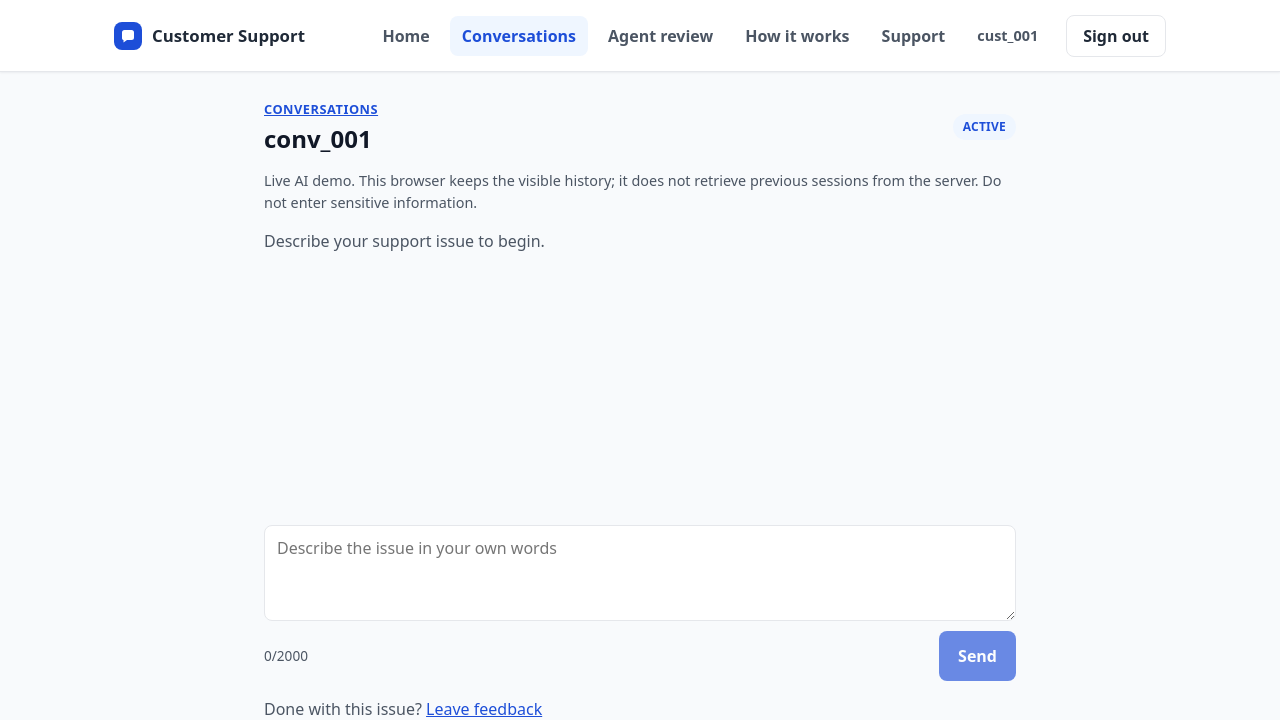
Scenario: customer support workflows › clears only the submitted customer's conversation draft while another conversation is open
In the text box labelled "Describe the issue": (640, 573) left=264, top=525, right=1016, bottom=621, type "Only clear the live draft"
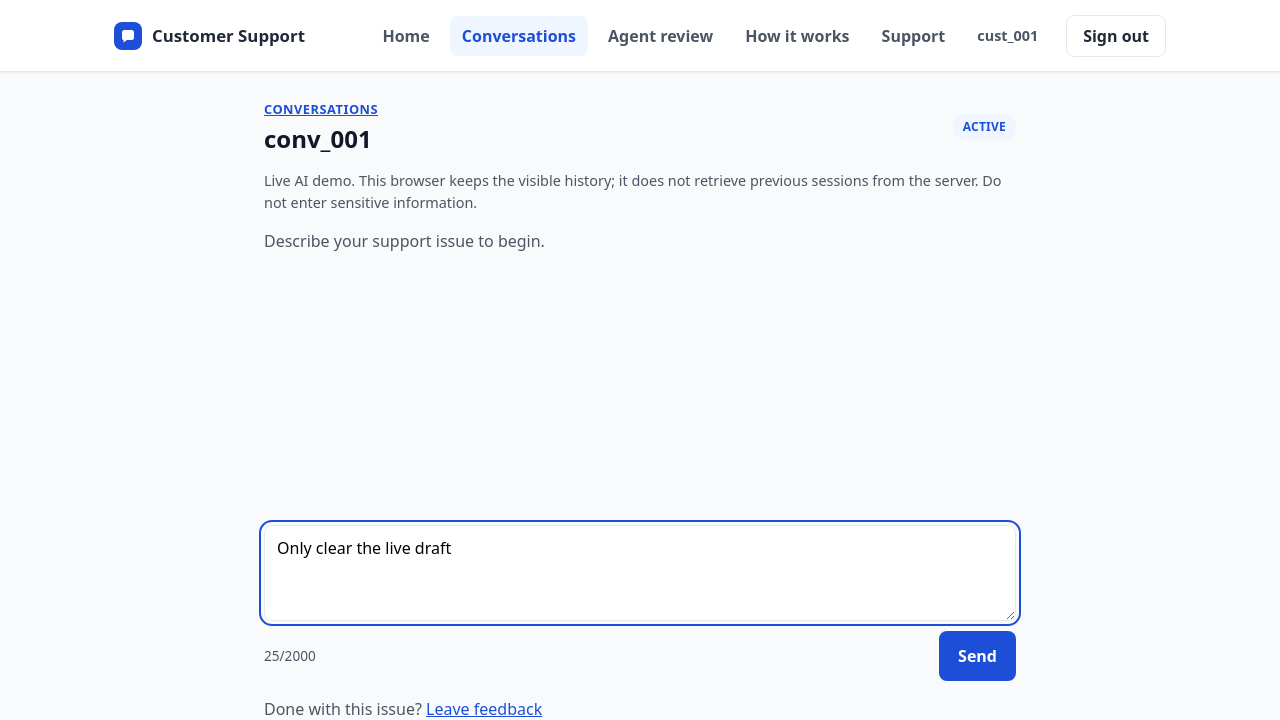
Click the button "Send": (978, 656) left=939, top=631, right=1016, bottom=681
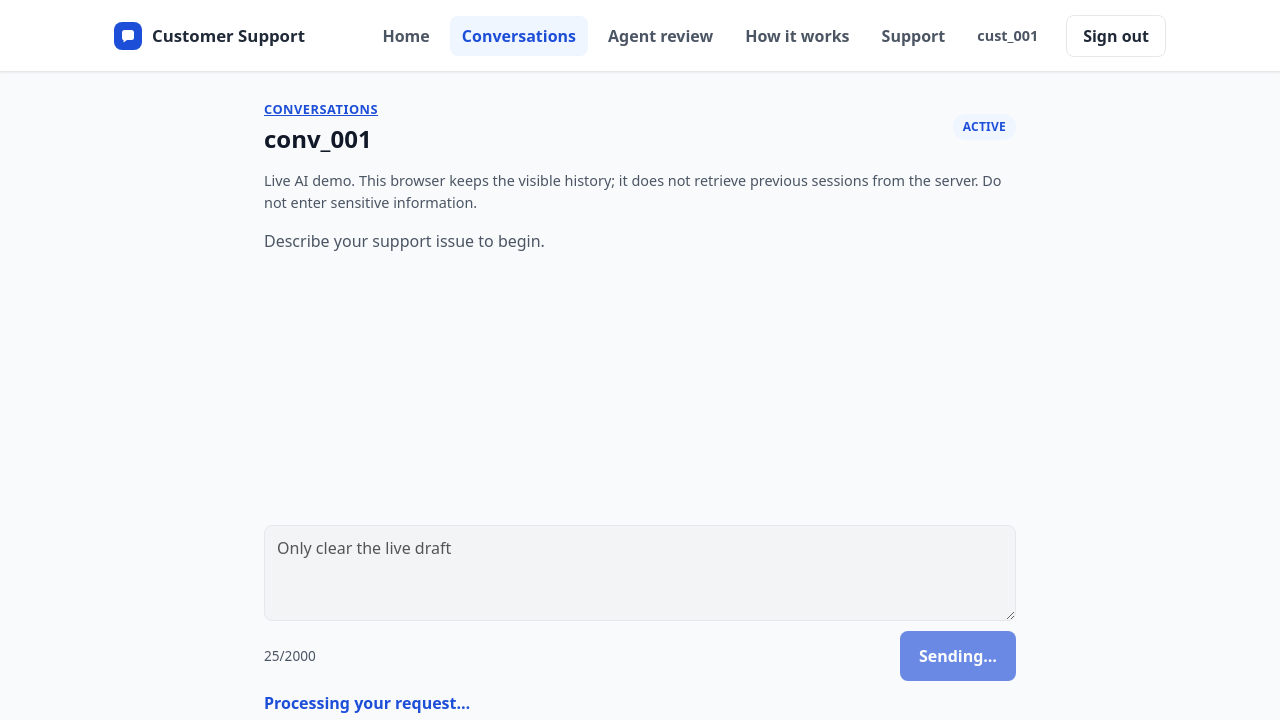
Click the link "Conversations" next to "Home": (519, 36) left=450, top=16, right=588, bottom=56
(page scrolled)
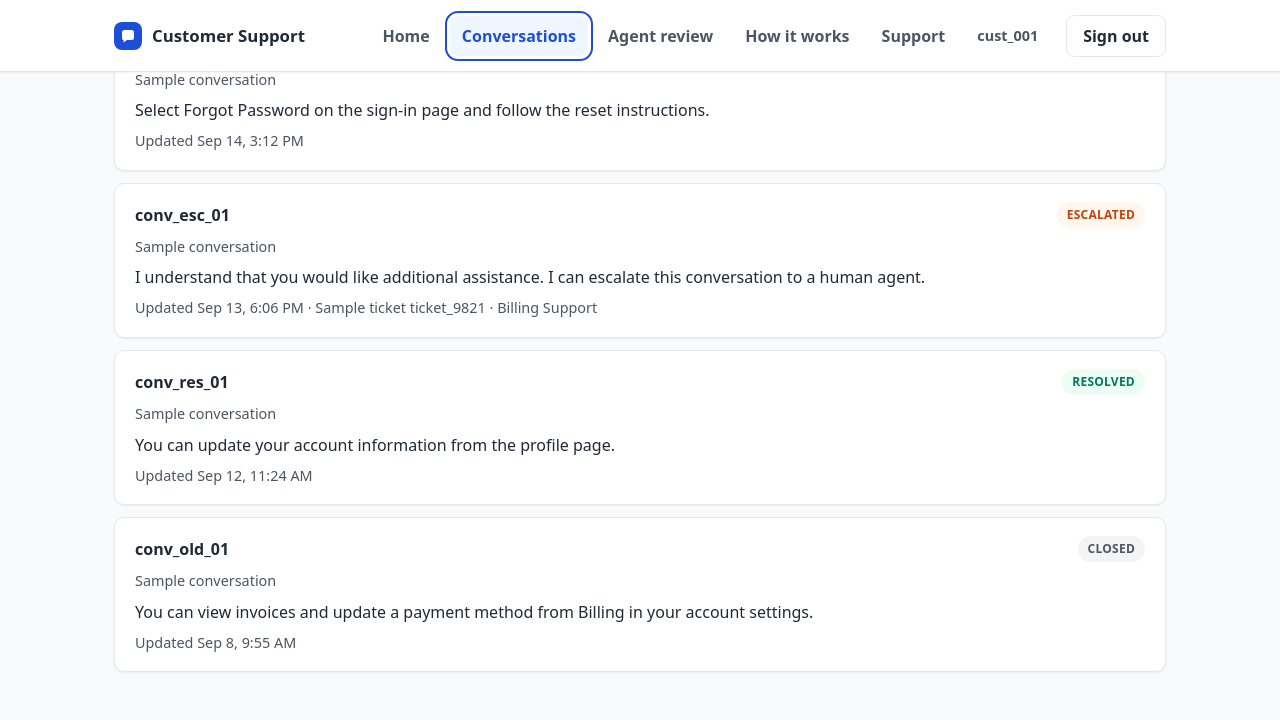
Click the link with aria-label "Open conv_old_01": (640, 595) left=114, top=517, right=1166, bottom=672
(page scrolled)
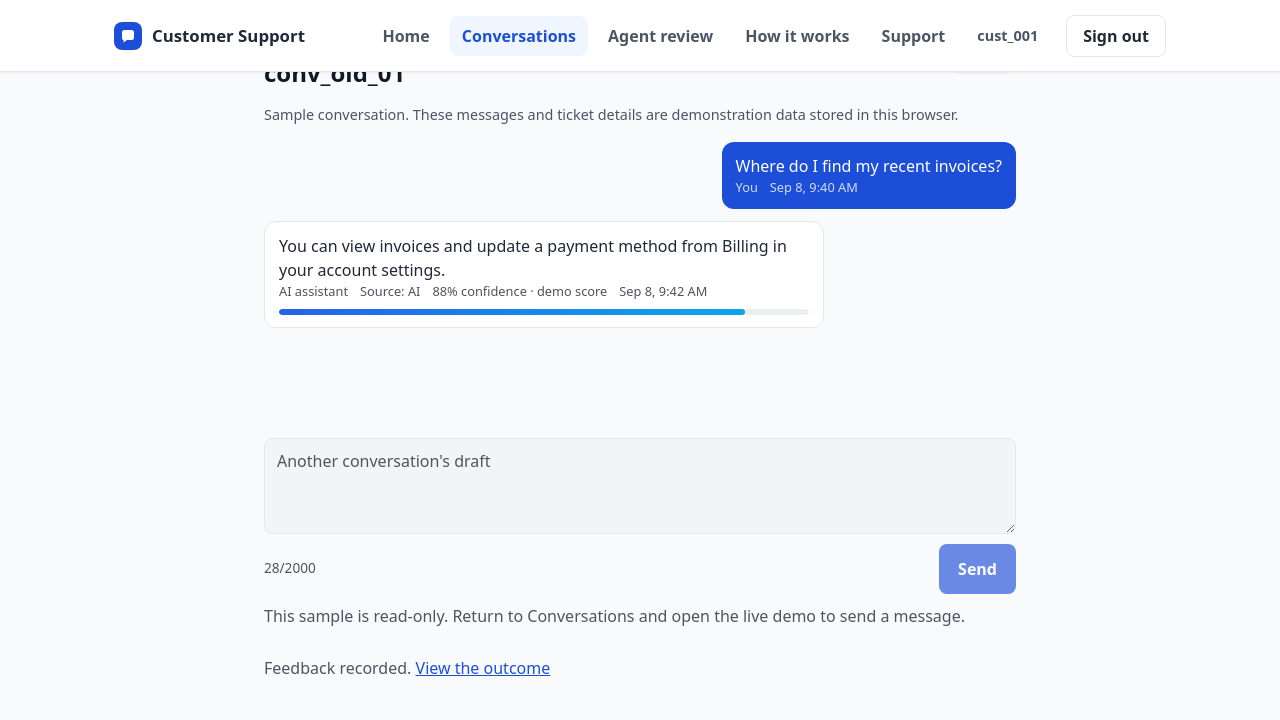
Check: the text box named "Describe the issue" holds "Another conversation's draft", box left=264, top=438, right=1016, bottom=534
